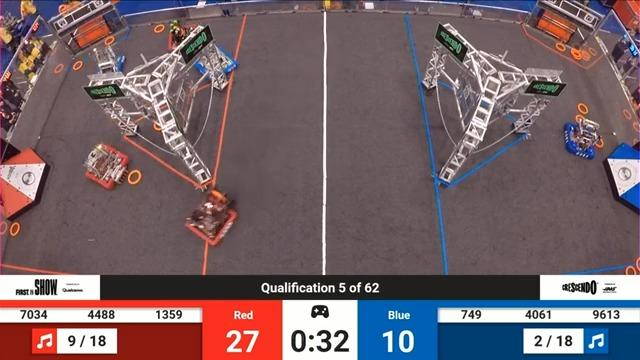robot: (181, 176, 241, 248), (85, 138, 132, 194), (558, 117, 601, 165), (193, 44, 240, 83), (88, 42, 129, 84), (162, 16, 199, 56)
